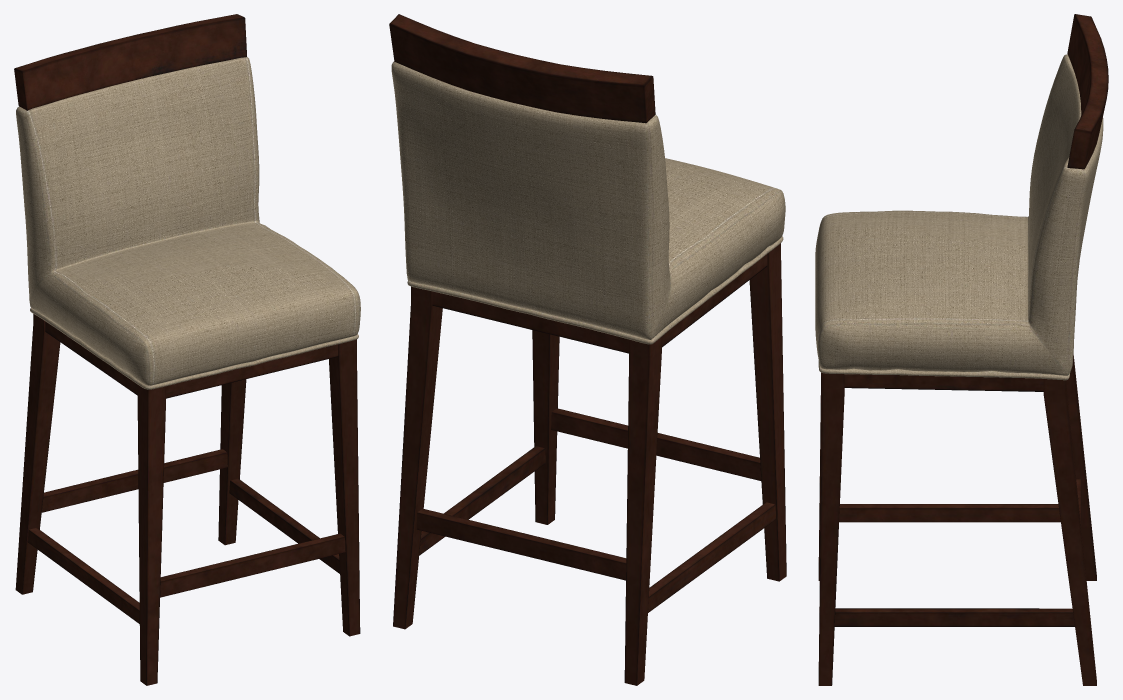
File: stool_B075YNTYVL.glb
3 views of the same model, side by side, from view 1: azimuth 30°, elevation 25°; view 2: azimuth 150°, elevation 25°; view 3: azimuth 270°, elevation 25° (orthographic). The views are drawn at different scales.
Visible parts, largest first — view 1: RootNode; view 2: RootNode; view 3: RootNode.
Part boxes in pixels (left/top/right/bottom): RootNode: left=14, top=14, right=360, bottom=685; RootNode: left=389, top=14, right=786, bottom=685; RootNode: left=815, top=14, right=1108, bottom=685.
Size of the model in its own units: 0.4631 by 1.01 by 0.4804.
1 material, 1 textured.
